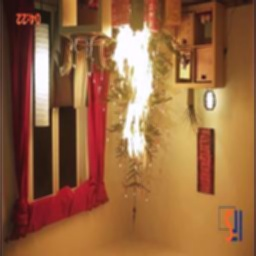fire: (106, 21, 167, 172)
